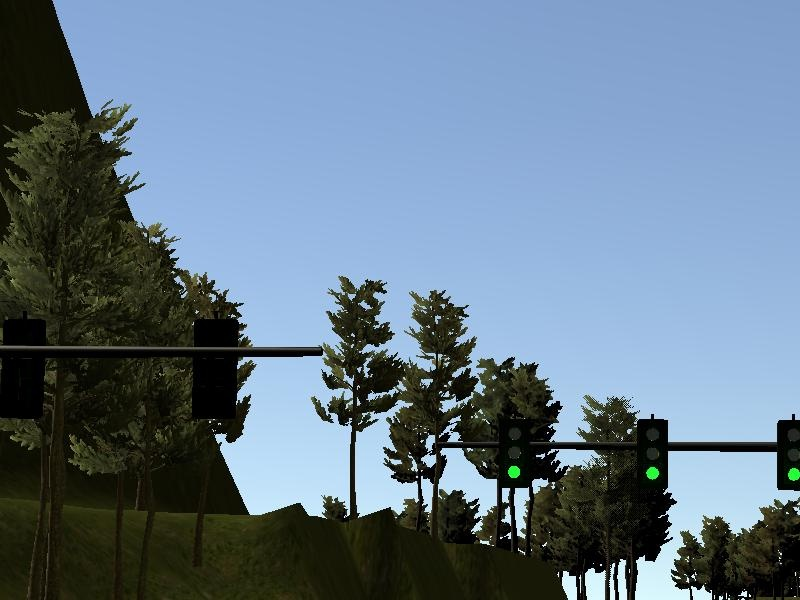GREEN: (636, 419, 668, 487), (499, 419, 527, 487), (776, 419, 798, 489)
